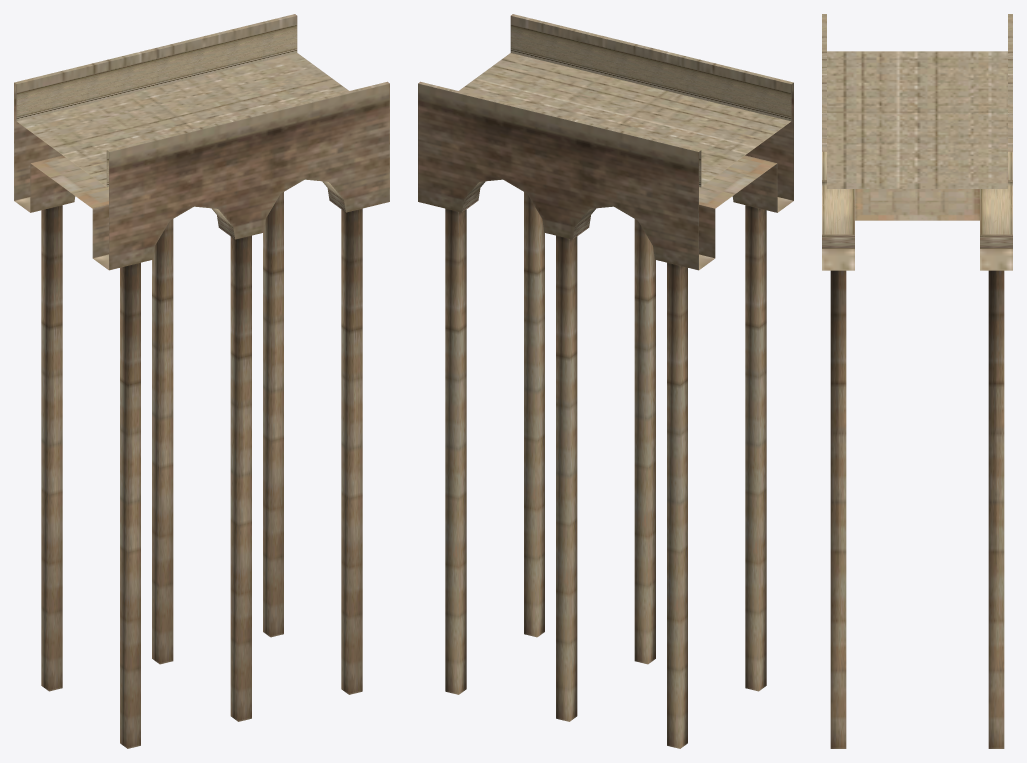
Rendered from thm_nboo_imprv_elevated_walkway_s01_l2.fbx.
3 renders of one model, left to right at view 1: azimuth 30°, elevation 25°; view 2: azimuth 150°, elevation 25°; view 3: azimuth 270°, elevation 25°, orthographic.
Visible parts, largest first — view 1: mesh_node; view 2: mesh_node; view 3: mesh_node.
Boxes of the visible parts, x1=… form: mesh_node: x1=14, y1=14, x2=389, y2=748; mesh_node: x1=418, y1=14, x2=793, y2=748; mesh_node: x1=822, y1=14, x2=1012, y2=748.
Size of the model in its own units: 8.88 by 18.3 by 5.2.
